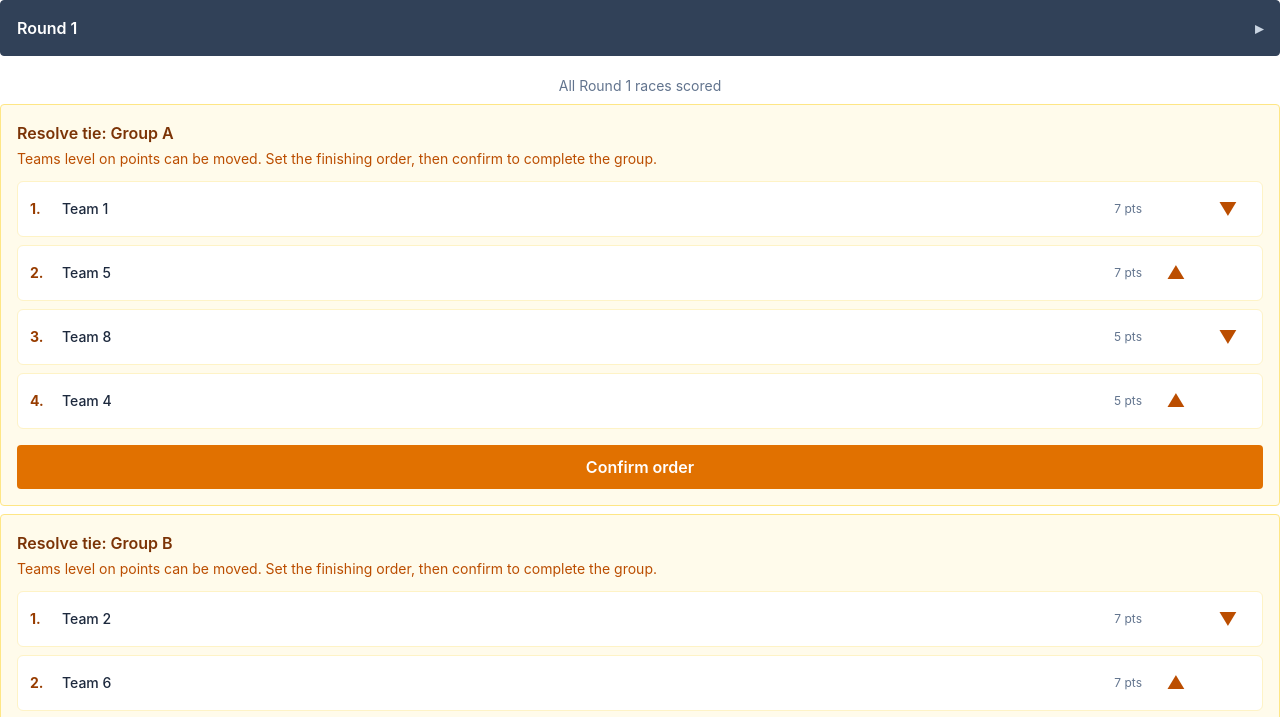
Test: Races tab: folding completed rounds › opens a folded round when its bar is tapped, and closes it again
This screenshot has width=1280, height=717.
Click the button "Round 1 ▸" at (47, 28), box [0,0,1279,56]
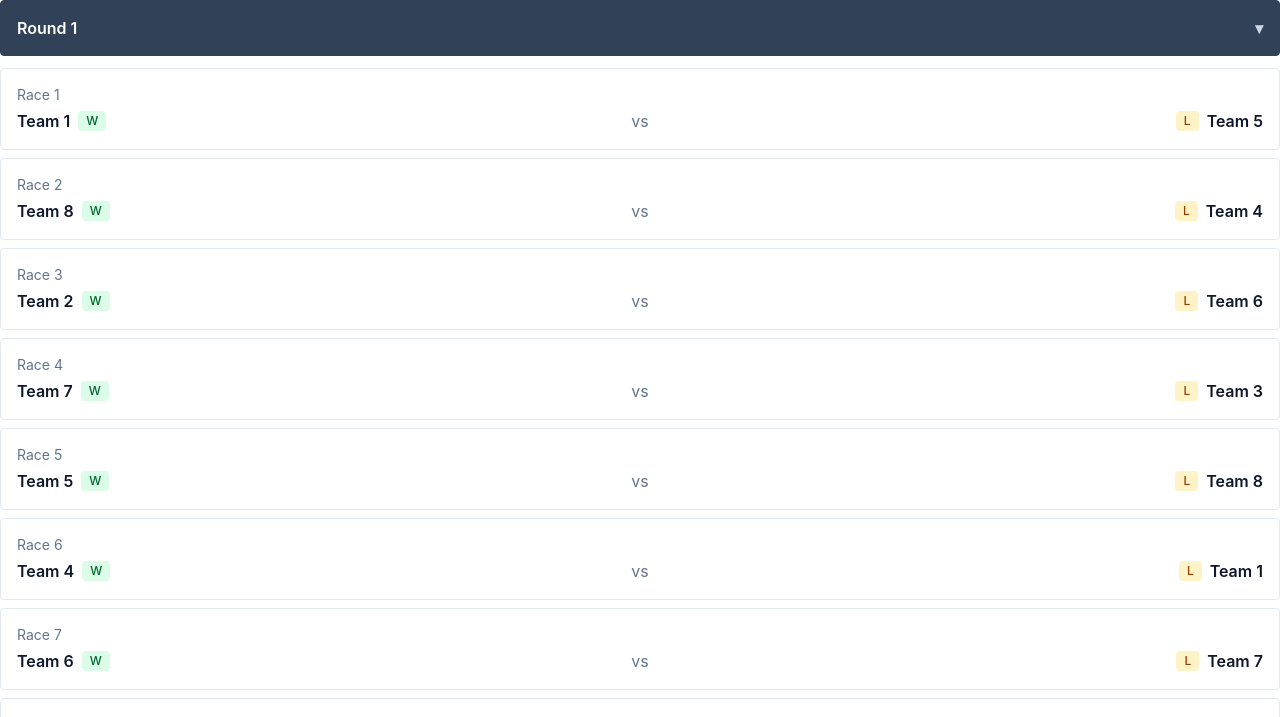
Now the button "Round 1 ▾" is expanded
Click the button "Round 1 ▾" at (47, 28), box [0,0,1279,56]
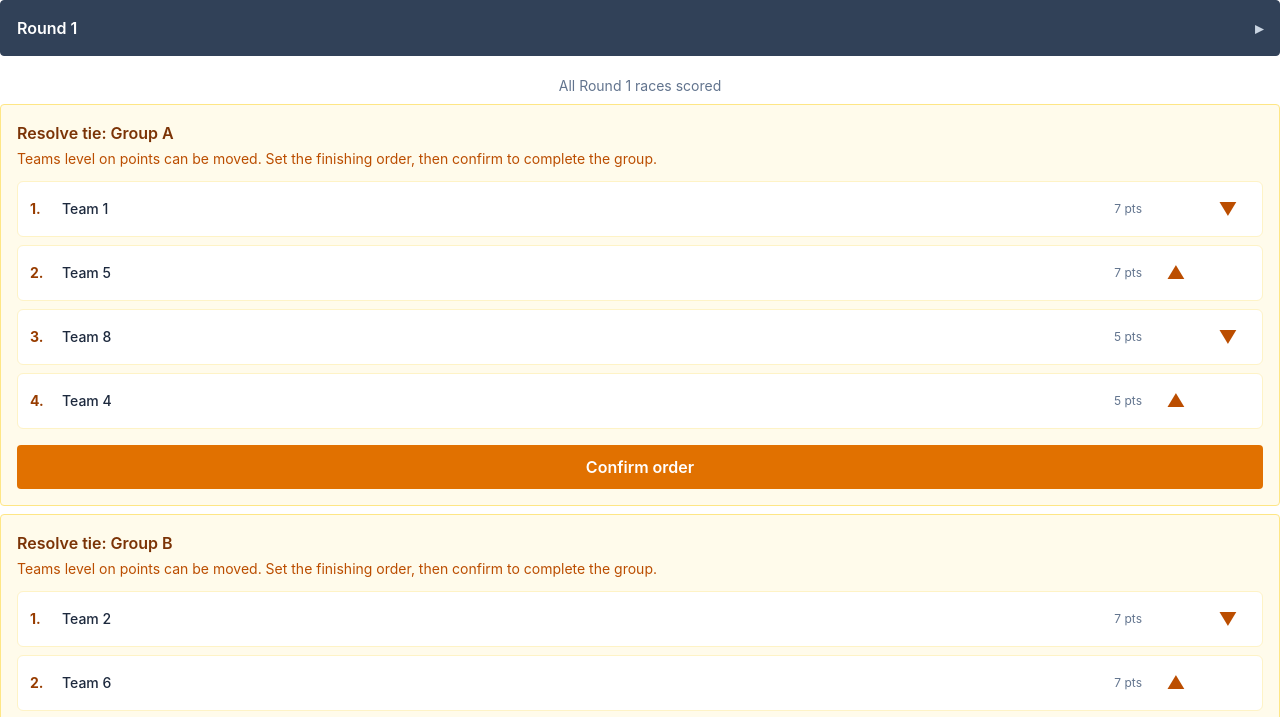
Now the button "Round 1 ▸" is collapsed, box [0,0,1279,56]
